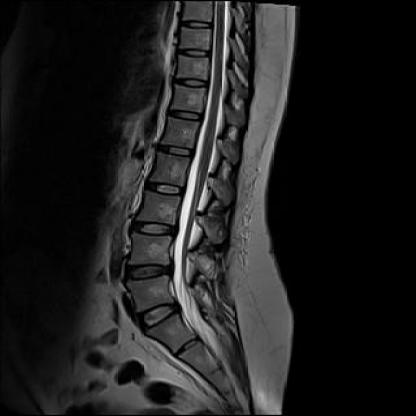Disc Bulgerotation: (139, 303, 181, 327), (125, 262, 173, 281), (132, 219, 177, 237)
